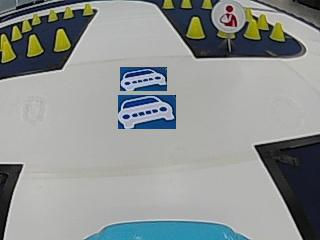cone: (186, 16, 206, 39), (0, 34, 15, 61), (27, 35, 44, 56), (54, 29, 70, 51), (244, 17, 260, 39), (270, 22, 285, 41), (81, 3, 94, 16), (11, 24, 22, 39), (63, 6, 74, 19), (47, 9, 58, 21), (161, 0, 174, 10), (31, 12, 41, 24), (180, 0, 192, 9), (200, 0, 212, 9), (22, 19, 31, 31)
patient: (212, 1, 245, 33)
